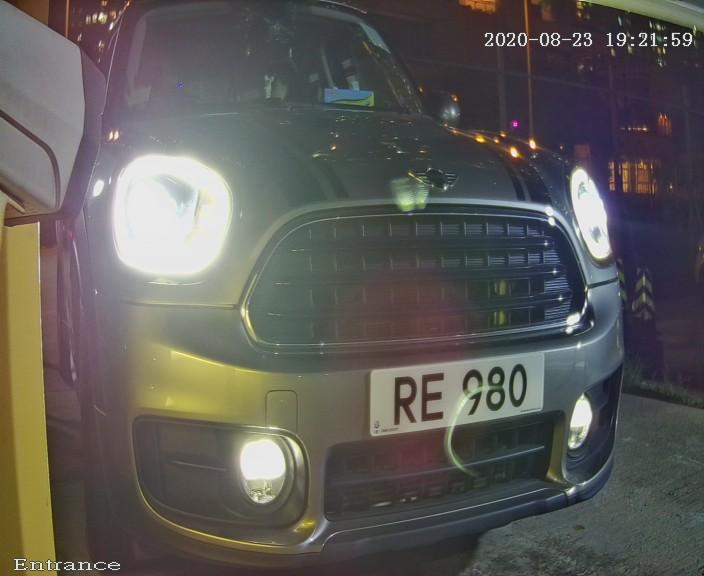License Plate: (335, 319, 583, 461)
